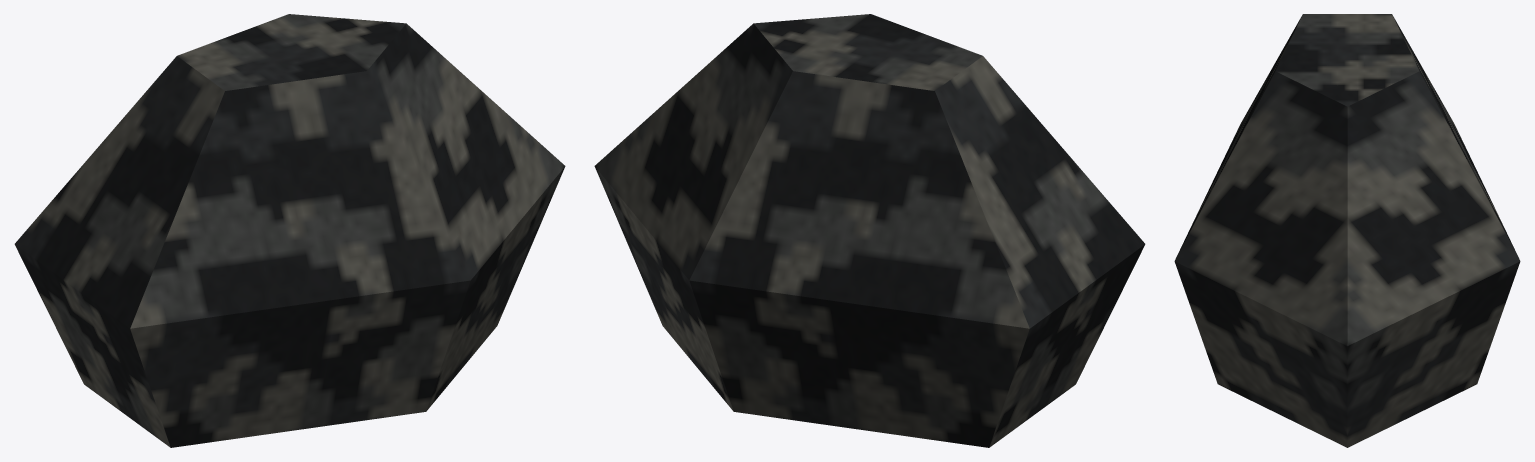
File: ENV_F_Rock_1.fbx
The picture shows the model from 3 angles, left to right: view 1: azimuth 30°, elevation 25°; view 2: azimuth 150°, elevation 25°; view 3: azimuth 270°, elevation 25°; orthographic projection. The views are drawn at different scales.
Parts seen in each view (by area): view 1: PL_ENV_F_Rock_1; view 2: PL_ENV_F_Rock_1; view 3: PL_ENV_F_Rock_1.
Boxes of the visible parts, <box> form: PL_ENV_F_Rock_1: <box>14,14,565,447</box>; PL_ENV_F_Rock_1: <box>594,14,1145,447</box>; PL_ENV_F_Rock_1: <box>1174,14,1520,447</box>.
Size of the model in its own units: 243 by 153 by 160.
1 material, 1 textured.
